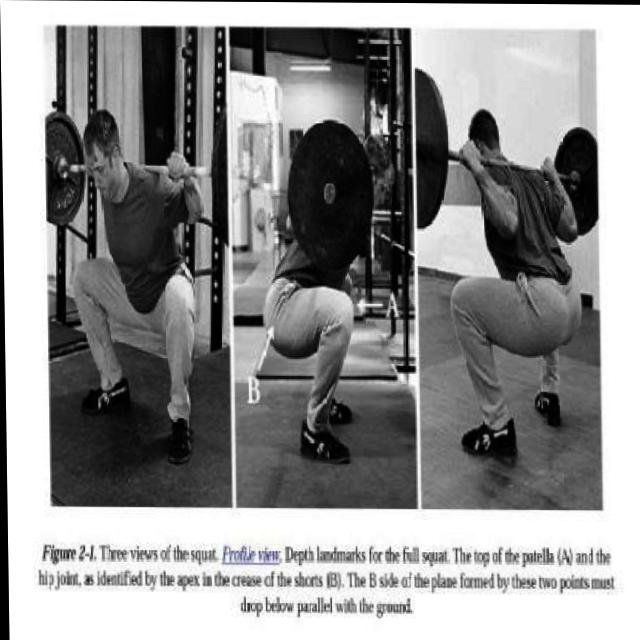barbell: (281, 112, 380, 277)
